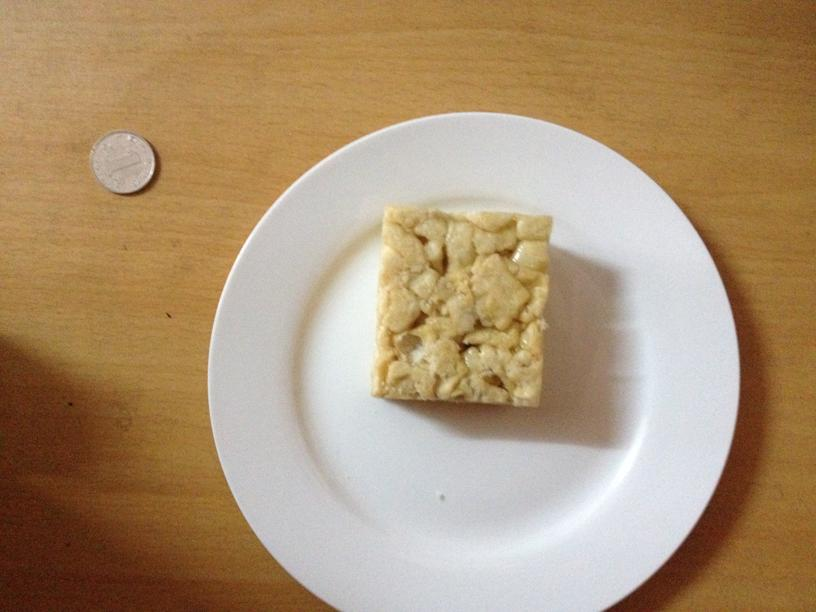coin: (92, 131, 157, 195)
sachima: (372, 203, 550, 407)
